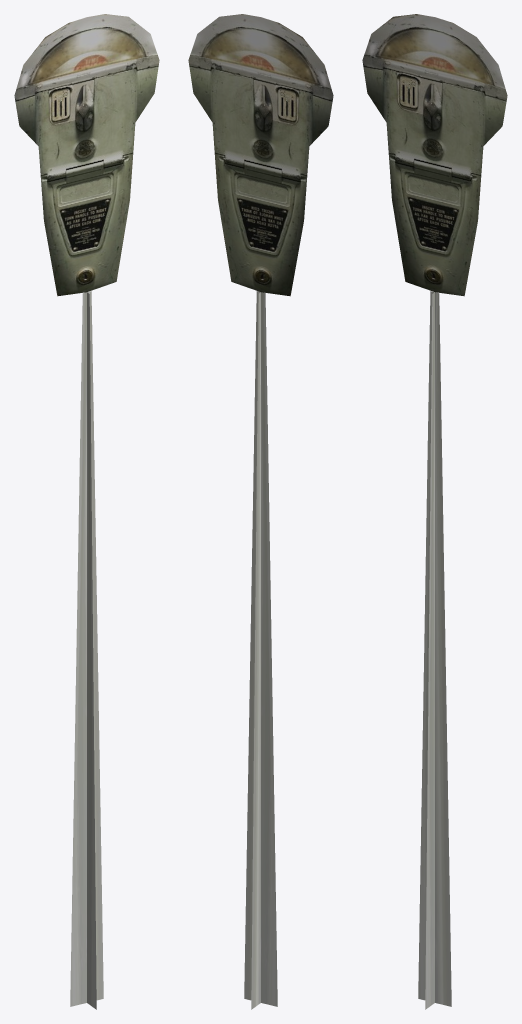
The model's file is parkingMeter.obj.
3 views of the same model, side by side, from view 1: azimuth 30°, elevation 25°; view 2: azimuth 150°, elevation 25°; view 3: azimuth 330°, elevation 25° (orthographic).
Parts seen in each view (by area): view 1: pasted__parkingMeter_1 group; view 2: pasted__parkingMeter_1 group; view 3: pasted__parkingMeter_1 group.
Boxes of the visible parts, bbox=[...] form: pasted__parkingMeter_1 group: bbox=[14, 14, 159, 1009]; pasted__parkingMeter_1 group: bbox=[188, 14, 333, 1009]; pasted__parkingMeter_1 group: bbox=[362, 14, 507, 1009].
Bounding box in the file's own units: 0.2992 × 1.94 × 0.0693.
Materials: 1 (1 with a texture image).
